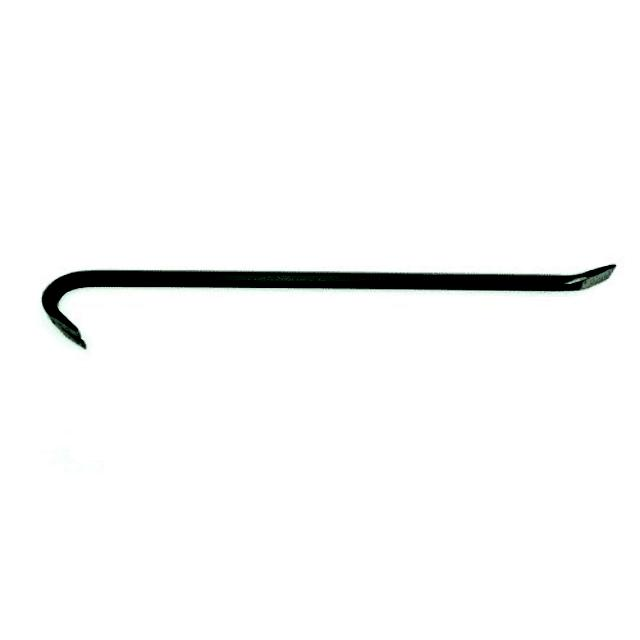crow bar: (28, 259, 623, 354)
